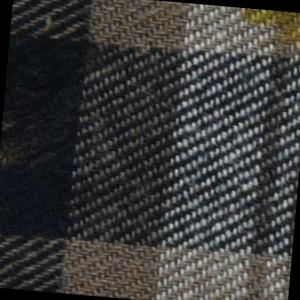Oil Stain: (227, 7, 300, 59), (1, 138, 27, 179)
